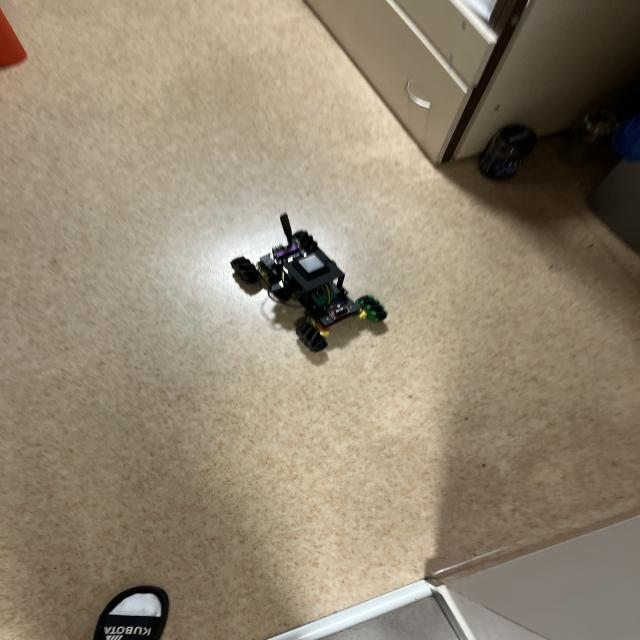robot: (231, 214, 387, 352)
